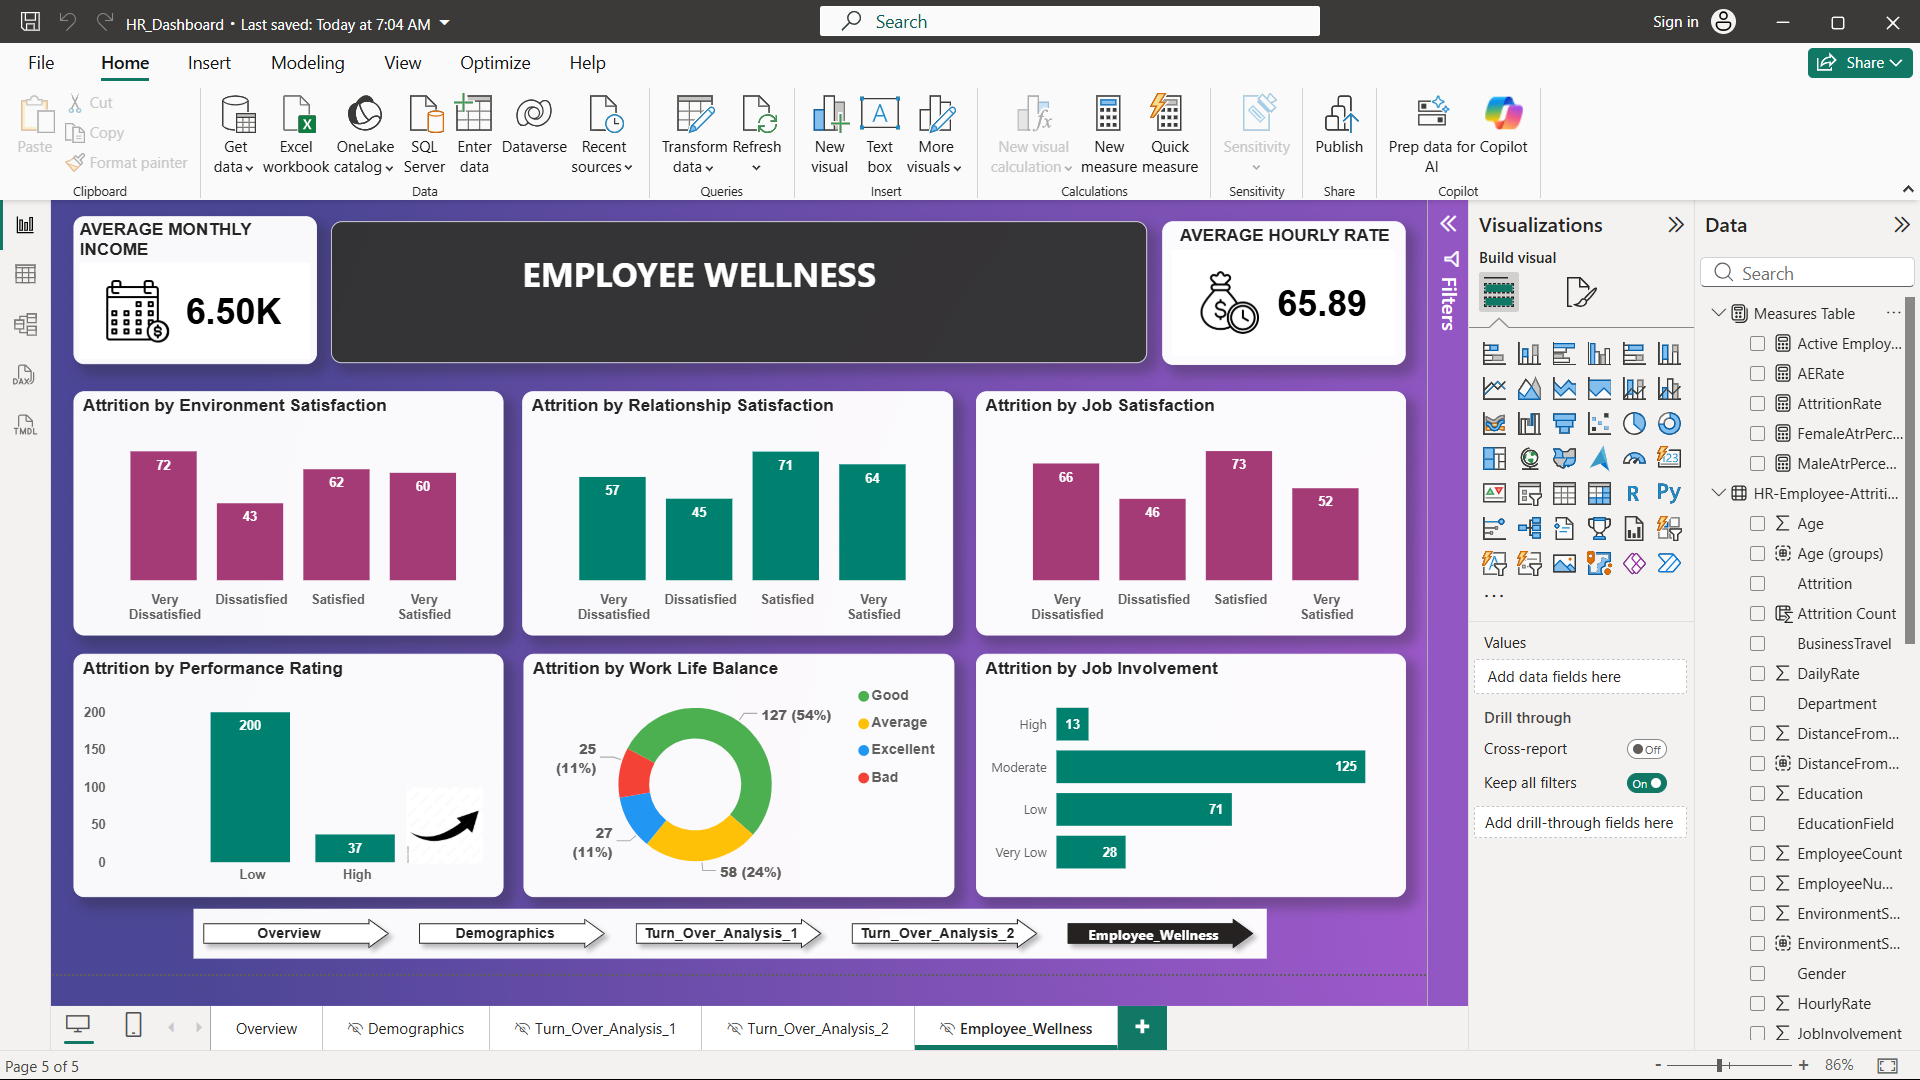

Layout of this report page (visuals, bound fields, positions):
{"tool":"powerbi","page":{"name":"Employee_Wellness","canvas":[1280,720],"ordinal":4},"visuals":[{"type":"textbox","box":[260.7,19.5,759,132.1],"z":0},{"type":"cardVisual","title":"AVERAGE MONTHLY INCOME","fields":{"Data":["Avg(HR-Employee-Attrition.MonthlyIncome)"]},"box":[20.5,15.7,226.5,137.3],"z":2000},{"type":"cardVisual","title":"AVERAGE HOURLY RATE","fields":{"Data":["Avg(HR-Employee-Attrition.HourlyRate)"]},"box":[1033.7,19.3,226.5,133.7],"z":3000},{"type":"columnChart","title":"Attrition by Environment Satisfaction","fields":{"Y":["Sum(HR-Employee-Attrition.Attrition Count)"],"Category":["HR-Employee-Attrition.EnvironmentSatisfaction (groups)"]},"box":[20.4,177.3,399.9,227],"z":4000},{"type":"columnChart","title":"Attrition by Relationship Satisfaction","fields":{"Y":["Sum(HR-Employee-Attrition.Attrition Count)"],"Category":["HR-Employee-Attrition.RelationshipSatisfaction (groups)"]},"box":[438.9,177.3,400.8,227],"z":5000},{"type":"columnChart","title":"Attrition by Job Satisfaction","fields":{"Y":["Sum(HR-Employee-Attrition.Attrition Count)"],"Category":["HR-Employee-Attrition.JobSatisfaction (groups)"]},"box":[860.1,177.3,399.9,227],"z":6000},{"type":"donutChart","title":"Attrition by Work Life Balance","fields":{"Category":["HR-Employee-Attrition.WorkLifeBalance (groups)"],"Y":["Sum(HR-Employee-Attrition.Attrition Count)"]},"box":[439.8,422.1,400.8,226.1],"z":7000},{"type":"columnChart","title":"Attrition by Performance Rating","fields":{"Category":["HR-Employee-Attrition.PerformanceRating (groups)"],"Y":["Sum(HR-Employee-Attrition.Attrition Count)"]},"box":[20.4,422.1,399.9,226.1],"z":10000},{"type":"barChart","title":"Attrition by Job Involvement","fields":{"Category":["HR-Employee-Attrition.JobInvolvement (groups)"],"Y":["Sum(HR-Employee-Attrition.Attrition Count)"]},"box":[860.1,422.1,399.9,226.1],"z":12000},{"type":"image","box":[323.6,547.1,85.1,70.9],"z":15000},{"type":"pageNavigator","box":[133,658.8,998.4,46.1],"z":17000}]}

Visuals, with their boxes on the page's 1280x720 design canvas (x1, y1, x2, y2). These are canvas units, not pixel positions in the 1920x1080 screenshot, which may show the page scaled, cropped or inside an application window:
textbox: 261, 20, 1020, 152
"AVERAGE MONTHLY INCOME" cardVisual: 20, 16, 247, 153
"AVERAGE HOURLY RATE" cardVisual: 1034, 19, 1260, 153
"Attrition by Environment Satisfaction" columnChart: 20, 177, 420, 404
"Attrition by Relationship Satisfaction" columnChart: 439, 177, 840, 404
"Attrition by Job Satisfaction" columnChart: 860, 177, 1260, 404
"Attrition by Work Life Balance" donutChart: 440, 422, 841, 648
"Attrition by Performance Rating" columnChart: 20, 422, 420, 648
"Attrition by Job Involvement" barChart: 860, 422, 1260, 648
image: 324, 547, 409, 618
pageNavigator: 133, 659, 1131, 705
